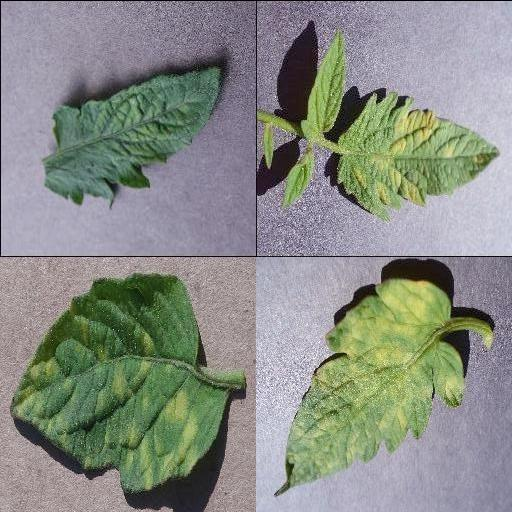Healthy: (301, 31, 346, 134)
Leaf Mold: (9, 271, 231, 488), (275, 278, 465, 493), (336, 90, 502, 223)
Mosaic Virus: (40, 63, 222, 211)
